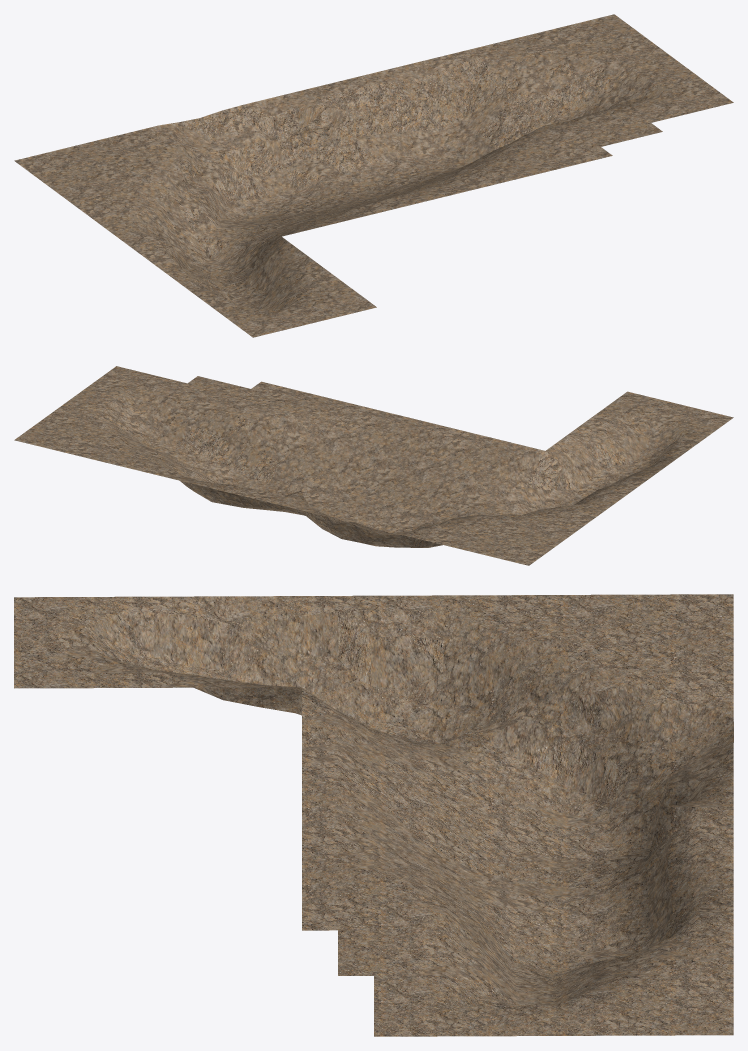
Rendered from river.FBX.
The picture shows the model from 3 angles, top to bottom: view 1: azimuth 30°, elevation 25°; view 2: azimuth 150°, elevation 25°; view 3: azimuth 270°, elevation 25°; orthographic projection. The views are drawn at different scales.
Visible parts, largest first — view 1: Group6259; view 2: Group6259; view 3: Group6259.
Boxes of the visible parts, x1,y1,x2,y2 form: Group6259: [14, 14, 733, 337]; Group6259: [14, 366, 733, 565]; Group6259: [14, 594, 733, 1036].
Bounding box in the file's own units: 285 × 27.96 × 197.
Materials: 1 (1 with a texture image).
